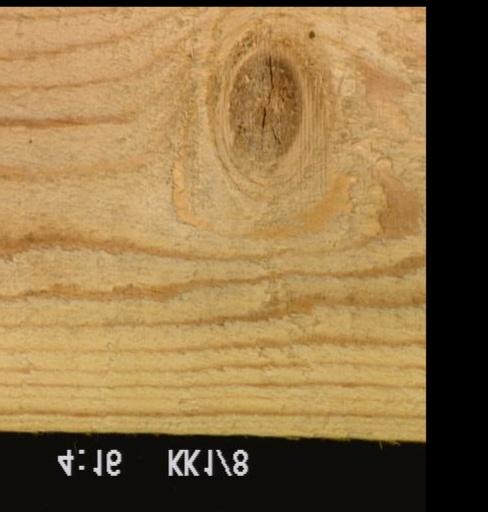small_knot: (304, 25, 320, 44)
sound_knot: (217, 45, 309, 169)
